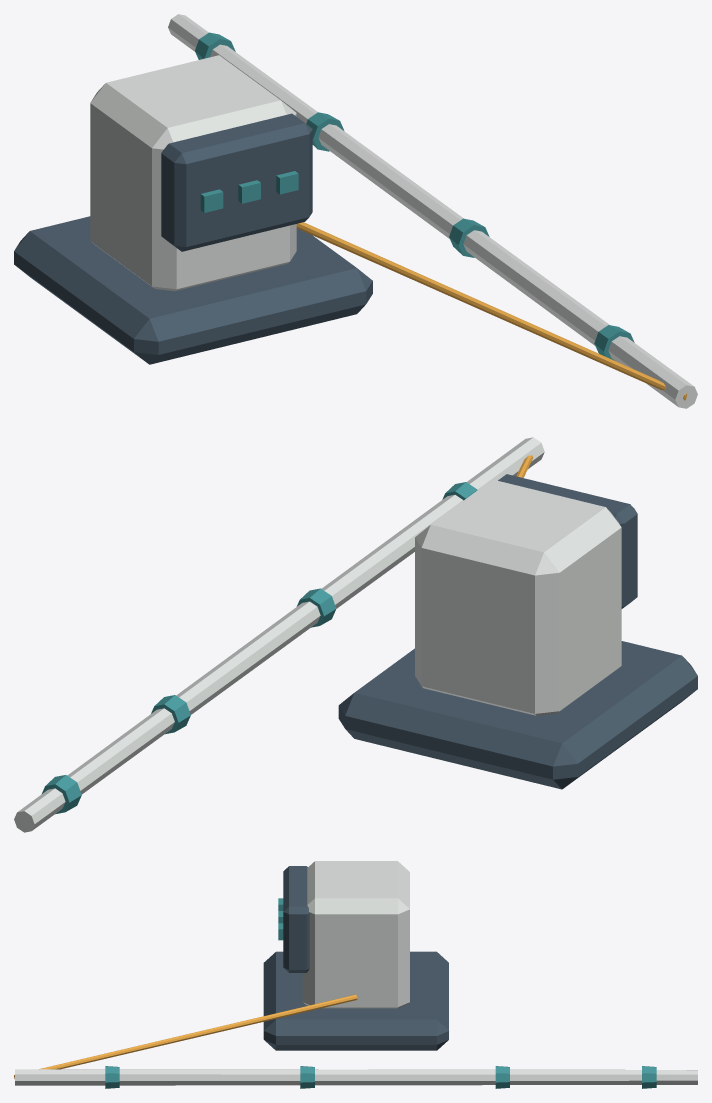
The picture shows the model from 3 angles, top to bottom: view 1: azimuth 30°, elevation 25°; view 2: azimuth 150°, elevation 25°; view 3: azimuth 270°, elevation 25°; orthographic projection. The views are drawn at different scales.
Parts seen in each view (by area): view 1: ME-023 Deployable subsurface thermal probe batched; view 2: ME-023 Deployable subsurface thermal probe batched; view 3: ME-023 Deployable subsurface thermal probe batched.
Boxes of the visible parts, bbox=[...] form: ME-023 Deployable subsurface thermal probe batched: bbox=[14, 14, 697, 408]; ME-023 Deployable subsurface thermal probe batched: bbox=[14, 437, 697, 832]; ME-023 Deployable subsurface thermal probe batched: bbox=[14, 861, 697, 1088].
Size of the model in its own units: 0.595 by 0.31 by 1.4.
